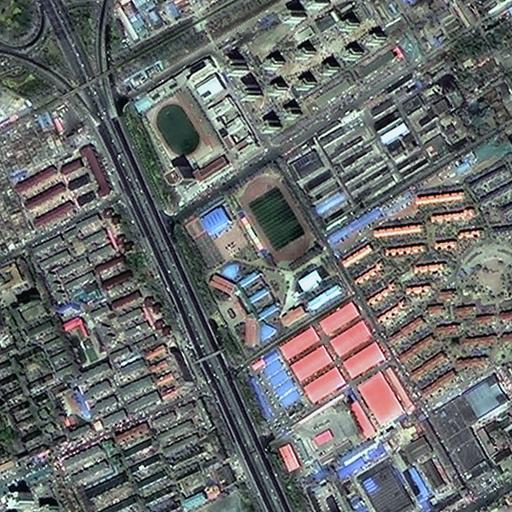school: (184, 166, 343, 353)
